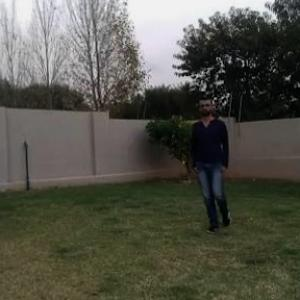follow: (196, 97, 229, 227)
